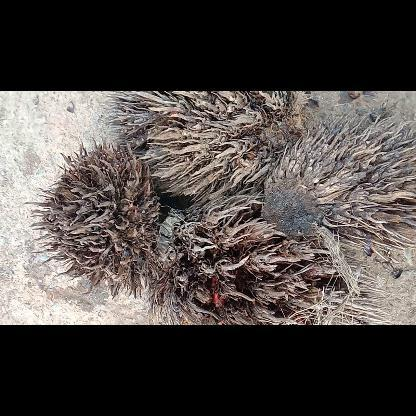Janjang kosong: (149, 196, 395, 324), (261, 112, 415, 260), (106, 90, 302, 202), (23, 138, 158, 298)
